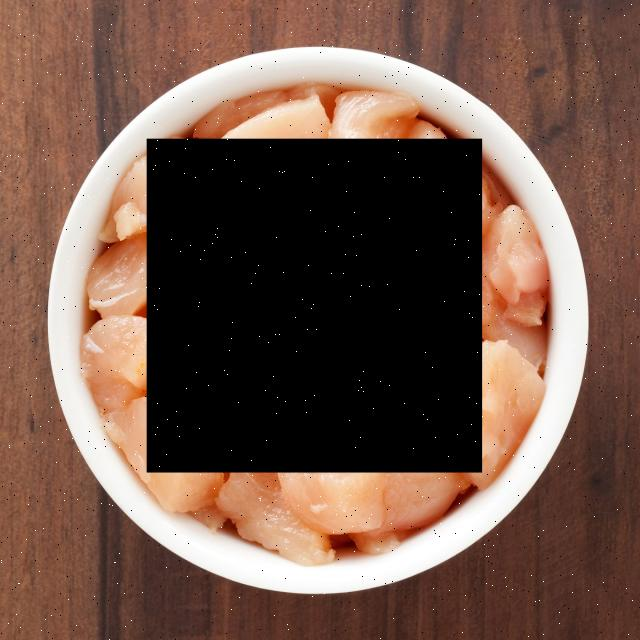Chicken: (147, 139, 483, 472)
